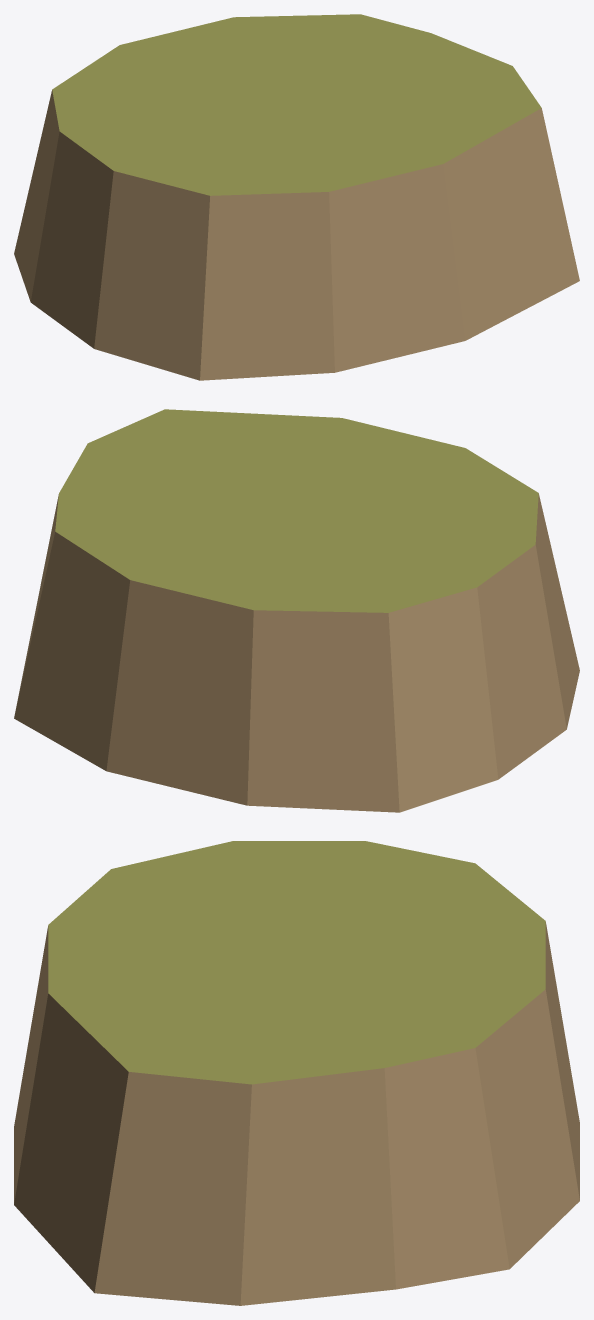
The model's file is Forest_Hill2.fbx.
3 renders of one model, top to bottom at view 1: azimuth 30°, elevation 25°; view 2: azimuth 150°, elevation 25°; view 3: azimuth 270°, elevation 25°, orthographic. The views are drawn at different scales.
Parts seen in each view (by area): view 1: Cube.009; view 2: Cube.009; view 3: Cube.009.
Part boxes in pixels (left/top/right/bottom): Cube.009: left=14, top=14, right=579, bottom=380; Cube.009: left=14, top=409, right=579, bottom=812; Cube.009: left=14, top=841, right=579, bottom=1305.
Size of the model in its own units: 603 by 214 by 530.
